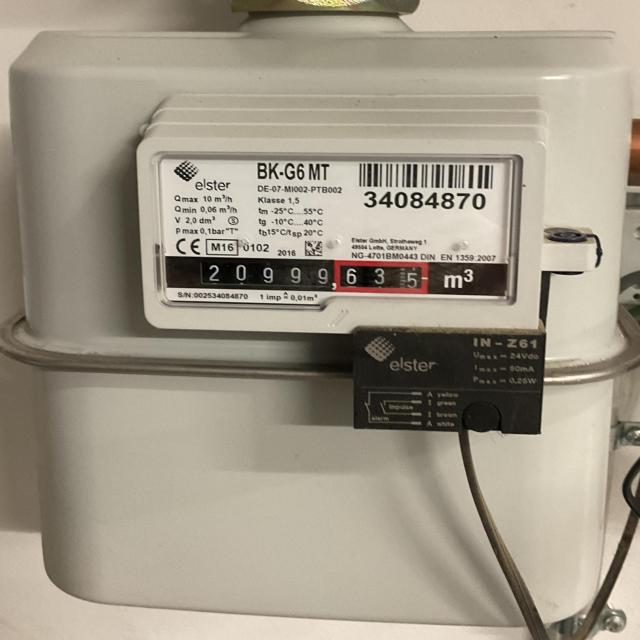gaz_meter: (157, 152, 513, 298)
indication: (165, 255, 433, 297)
